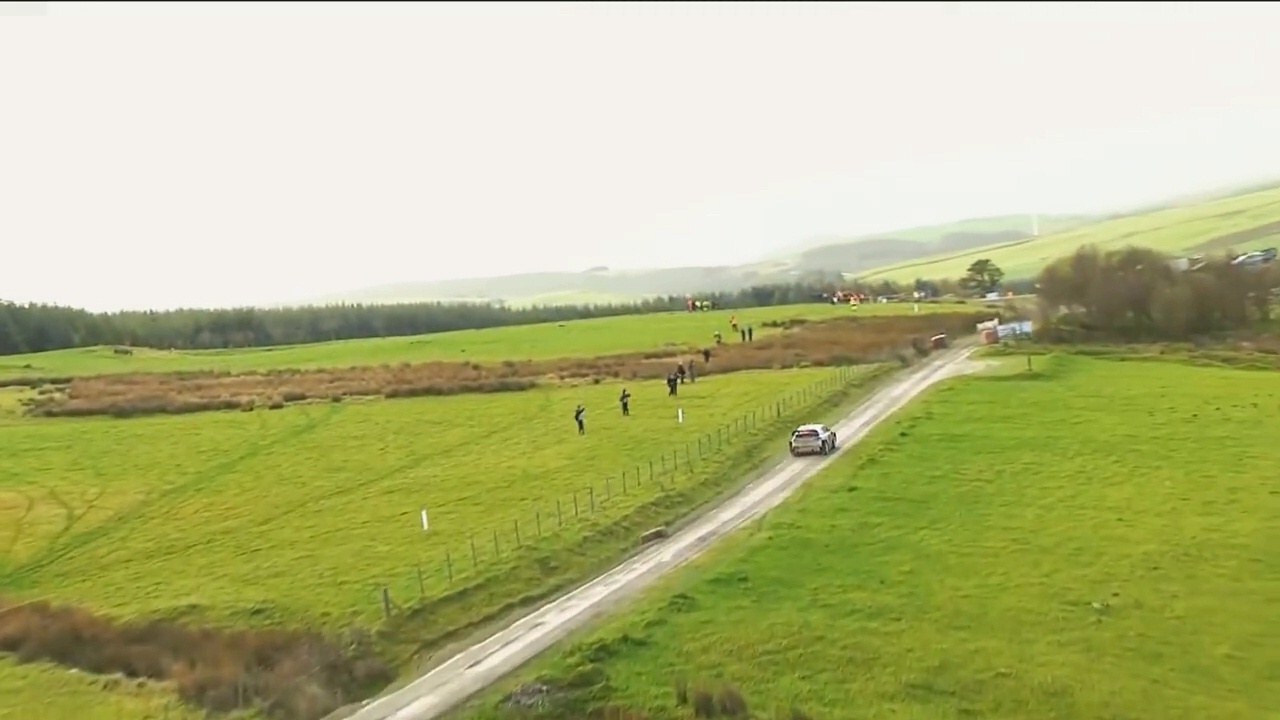araba: (792, 423, 840, 454)
insan: (618, 387, 634, 418), (573, 401, 588, 432)
